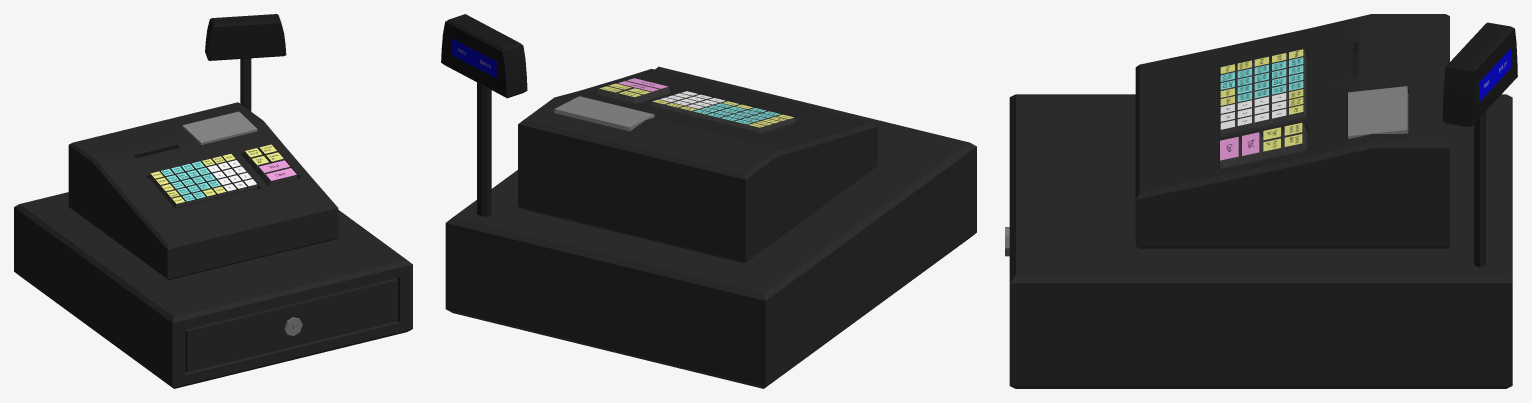
Rendered from Physical_Register.fbx.
3 views of the same model, side by side, from view 1: azimuth 30°, elevation 25°; view 2: azimuth 150°, elevation 25°; view 3: azimuth 270°, elevation 25° (orthographic). The views are drawn at different scales.
Parts seen in each view (by area): view 1: register_container, register, keyboard, cost_screen, screen, padkey, bar; view 2: register_container, register, cost_screen, keyboard, bar, screen, padkey; view 3: register_container, register, keyboard, cost_screen, screen, padkey, bar.
Part boxes in pixels (x1,y1,x2,y2): register_container: [14, 192, 412, 388]; register: [68, 102, 338, 279]; keyboard: [148, 154, 257, 208]; cost_screen: [205, 14, 286, 60]; screen: [182, 111, 257, 144]; padkey: [242, 144, 298, 185]; bar: [240, 58, 251, 111]; register_container: [445, 66, 976, 388]; register: [518, 69, 877, 263]; cost_screen: [441, 14, 527, 98]; keyboard: [650, 91, 795, 134]; bar: [477, 82, 491, 216]; screen: [554, 96, 654, 131]; padkey: [596, 78, 670, 103]; register_container: [1009, 94, 1512, 388]; register: [1135, 14, 1449, 248]; keyboard: [1220, 49, 1306, 137]; cost_screen: [1442, 22, 1517, 127]; screen: [1348, 86, 1408, 138]; padkey: [1220, 122, 1307, 168]; bar: [1473, 111, 1485, 267].
Bounding box in the file's own units: 7.47 × 5.83 × 8.16.
7 materials, 3 textured.
